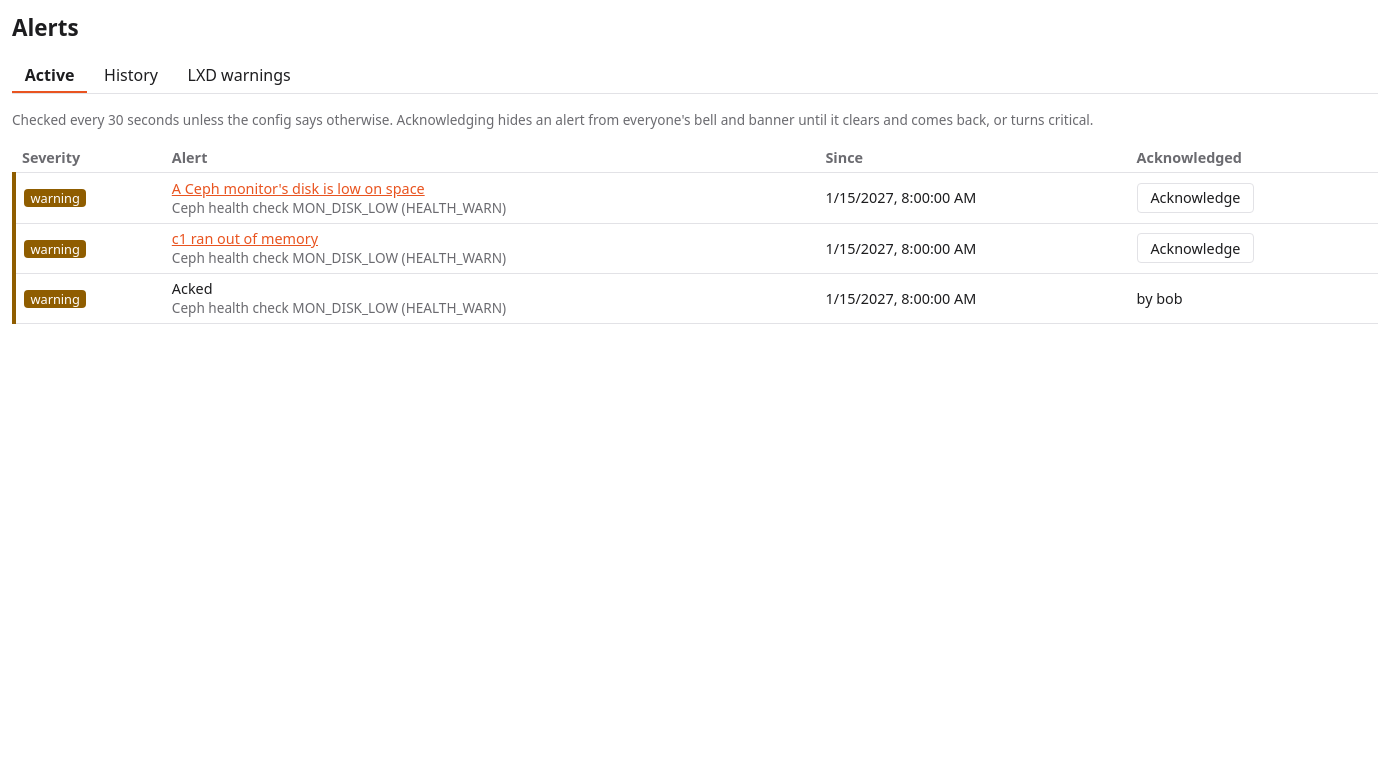
Alerts page (D91) › lists active alerts, acknowledges, shows history and LXD's warnings
The width and height of the screenshot is (1378, 780).
expect the row "A Ceph monitor's disk is low on space" shows "warning": met, box [30, 190, 80, 208]
expect the 4th row shows "by bob": met, box [1137, 289, 1183, 308]
Click the button "Acknowledge" in the row of "A Ceph monitor's disk is low on space".
click(1195, 198)  # box [1137, 183, 1254, 213]
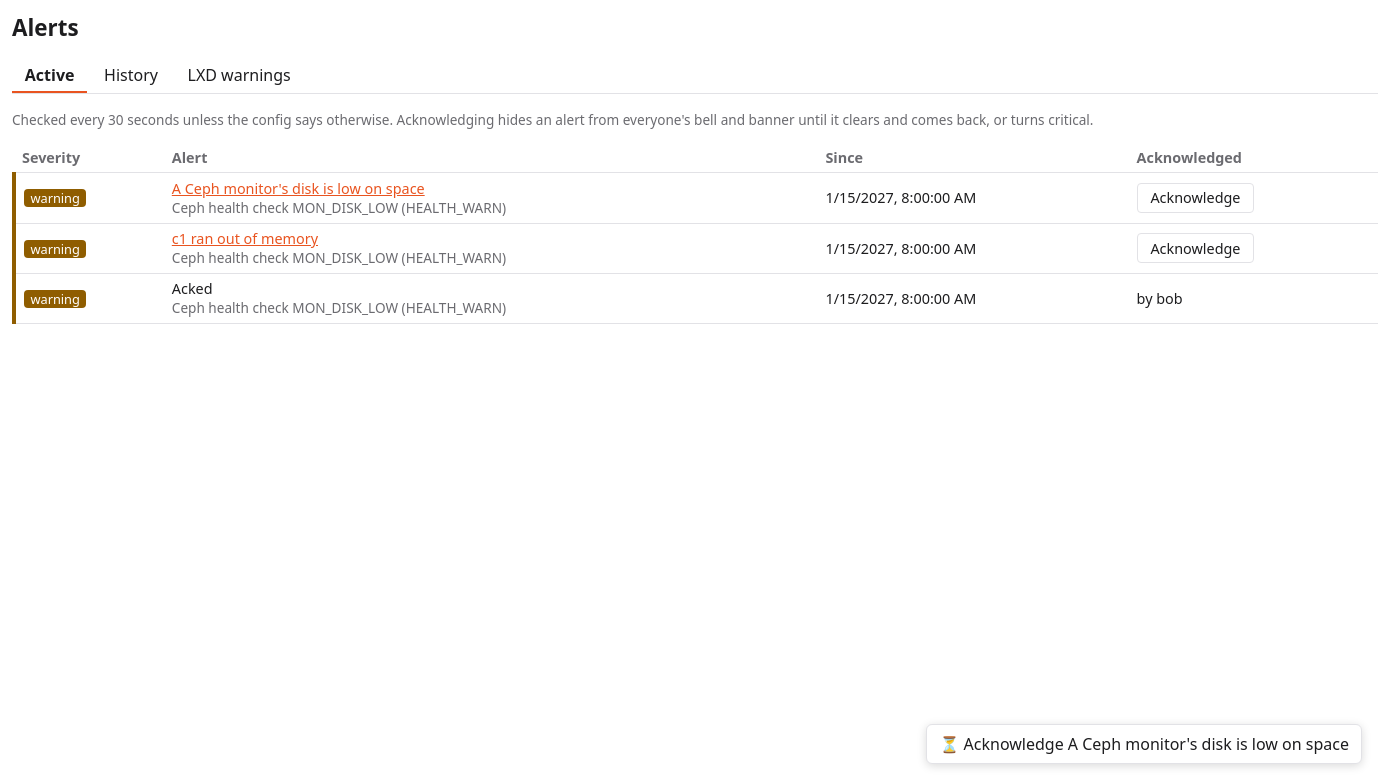
Click the button "History".
click(131, 76)  # box [91, 59, 171, 93]
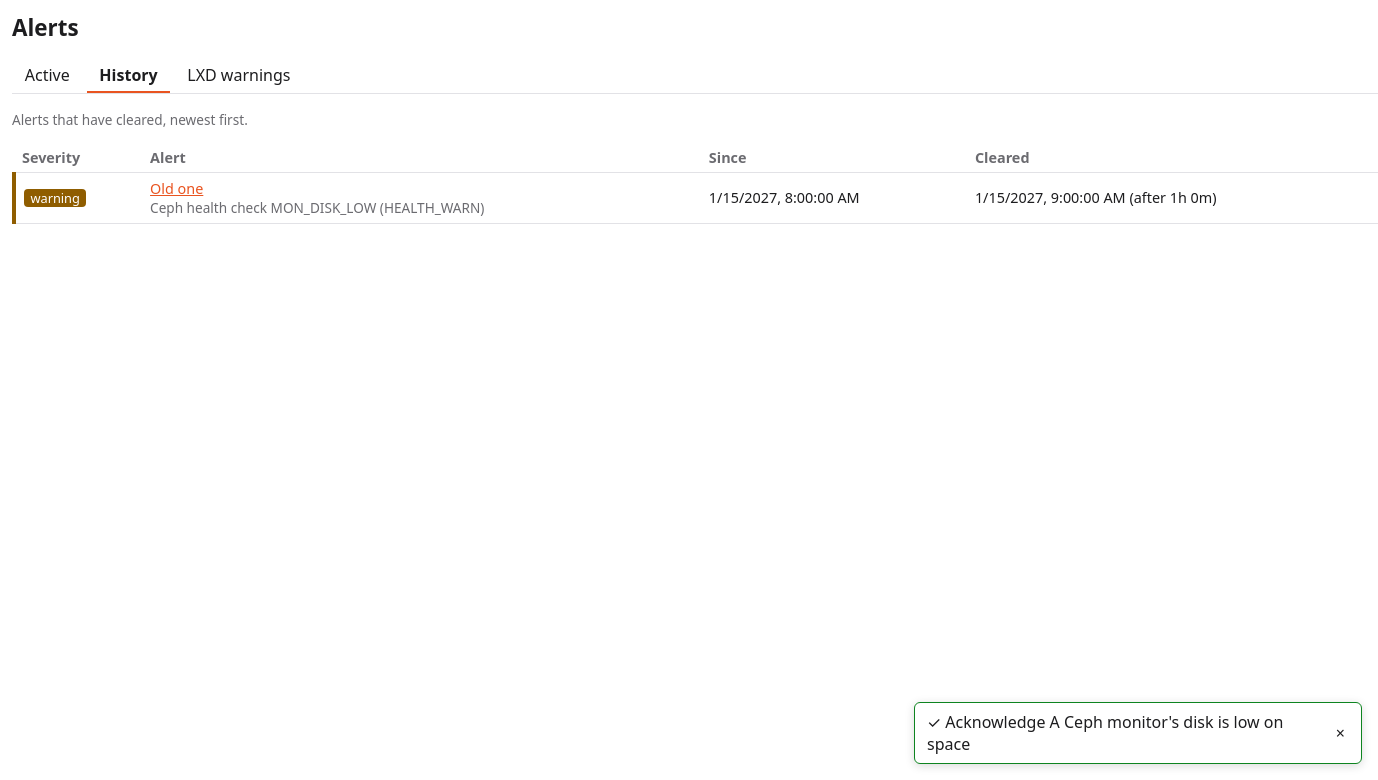
expect the link "Old one" is shown: met, box [150, 179, 203, 198]
expect the row that starts with "warning" shows "(after 1h": met, box [975, 188, 1217, 208]
Click the button "LXD warnings".
click(239, 76)  # box [174, 59, 303, 93]
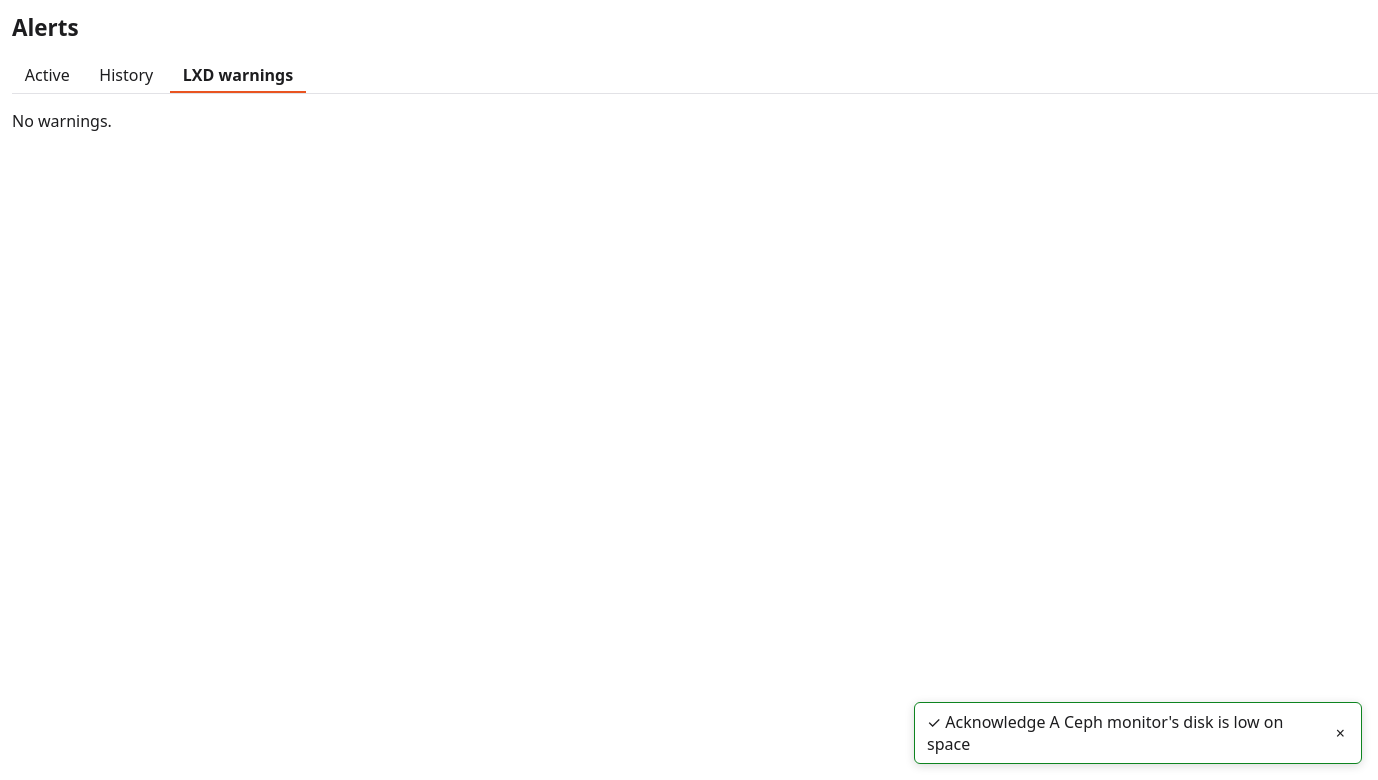
expect the text "No warnings." is shown: met, box [12, 110, 112, 132]
